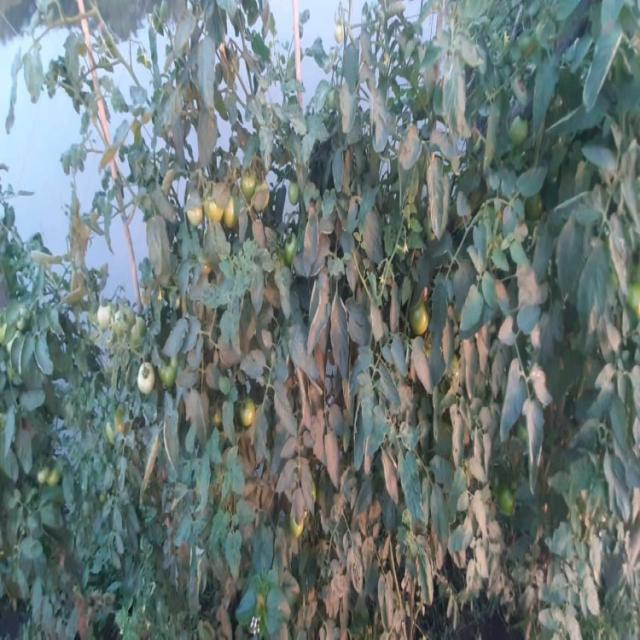tomato: (133, 362, 166, 407), (496, 113, 536, 145), (93, 289, 121, 332), (411, 304, 442, 332), (214, 201, 240, 229), (39, 462, 61, 493), (236, 398, 255, 427), (500, 490, 520, 516), (189, 203, 209, 225), (238, 176, 255, 190)
